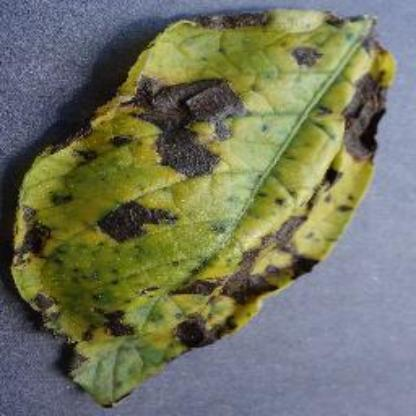Early-Blight: (10, 7, 398, 409)
